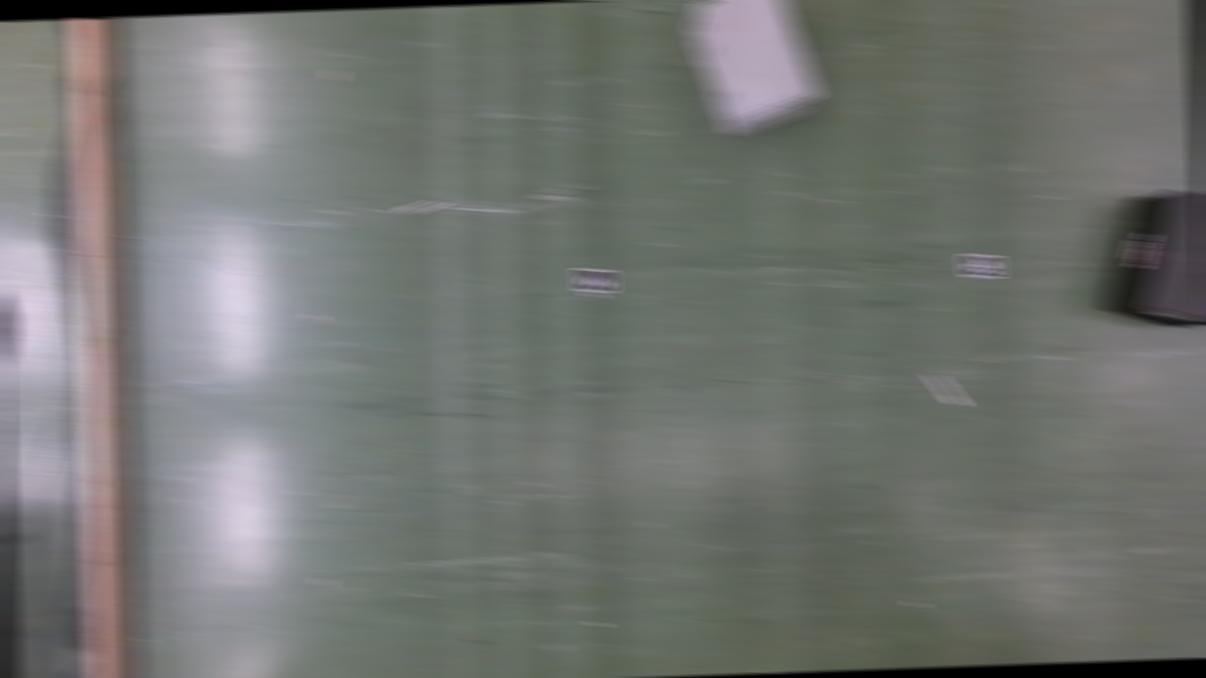probes: (928, 373, 965, 407), (398, 200, 445, 215)
rako: (688, 0, 822, 137), (1097, 189, 1206, 333)
